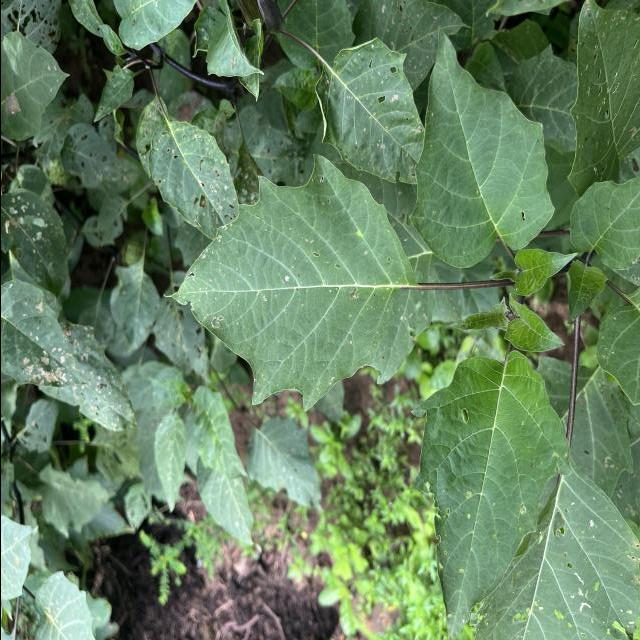Datura metal linn: (156, 150, 422, 416), (404, 346, 577, 640), (404, 23, 556, 270)
